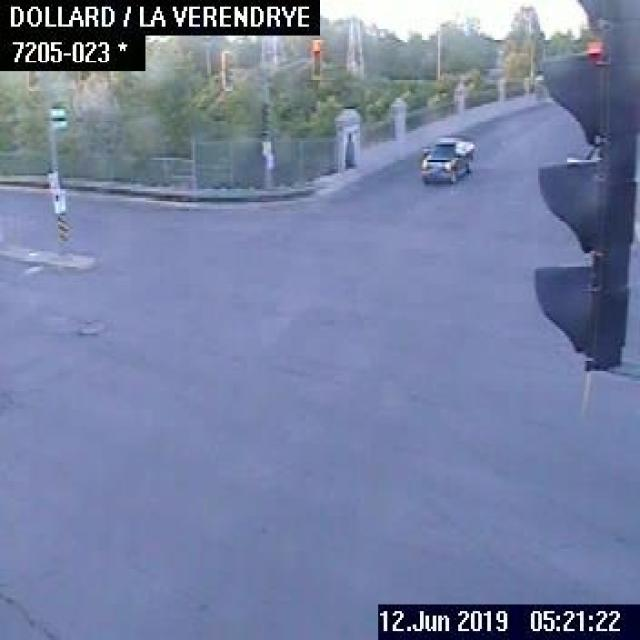vehicle: (418, 134, 475, 182)
